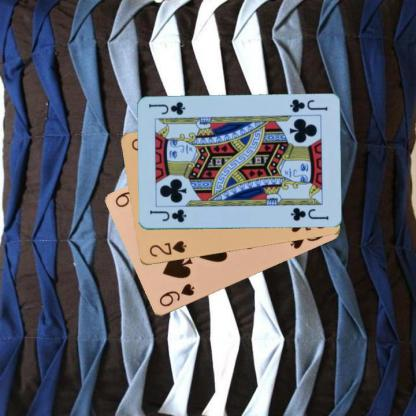2s: (146, 238, 188, 259)
9s: (156, 281, 196, 308)
Jc: (287, 96, 328, 114), (147, 207, 187, 224)
